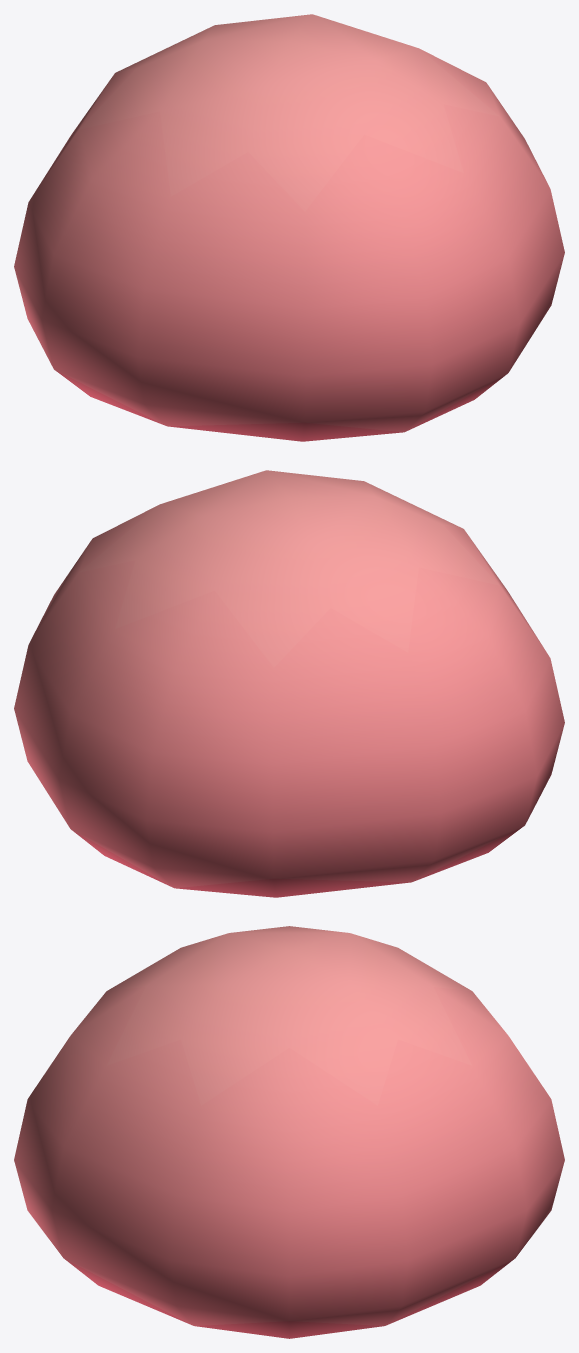
Rendered from Bush_1_D_Color8.fbx.
The picture shows the model from 3 angles, top to bottom: view 1: azimuth 30°, elevation 25°; view 2: azimuth 150°, elevation 25°; view 3: azimuth 270°, elevation 25°; orthographic projection. The views are drawn at different scales.
Parts seen in each view (by area): view 1: Bush_1_D_Color8; view 2: Bush_1_D_Color8; view 3: Bush_1_D_Color8.
Part boxes in pixels (x1,y1,x2,y2): Bush_1_D_Color8: (14,14,564,441); Bush_1_D_Color8: (14,470,564,897); Bush_1_D_Color8: (14,926,564,1338).
Bounding box in the file's own units: 1.57 × 0.9937 × 1.57.
